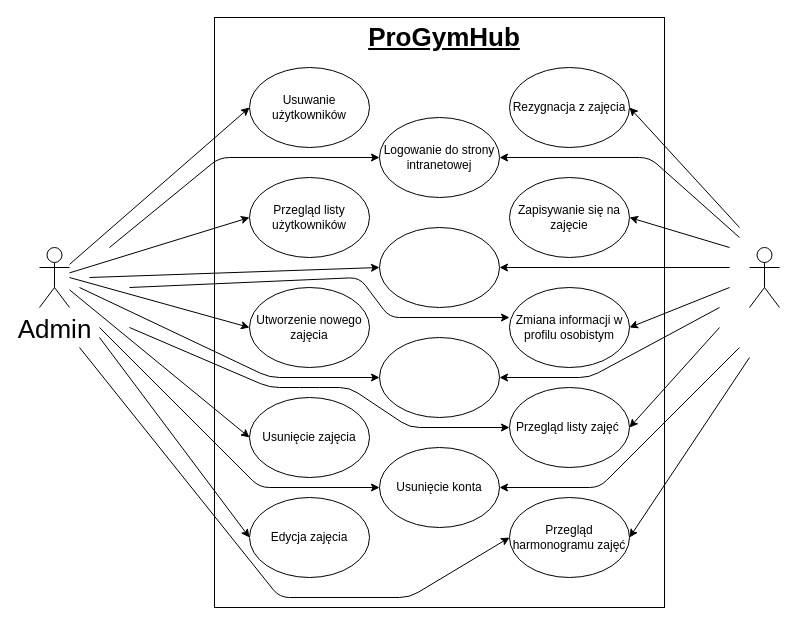
Some shapes in this 809 by 625 pixel diagram are drawn without their labels. Here are the shapes that lost their labels. From the top down, the box of each, then its label:
(378, 226, 500, 308): Rejestracja na stronie internetowej
(748, 246, 780, 308): User
(378, 336, 500, 418): Obliczanie wskaźnika BMI
